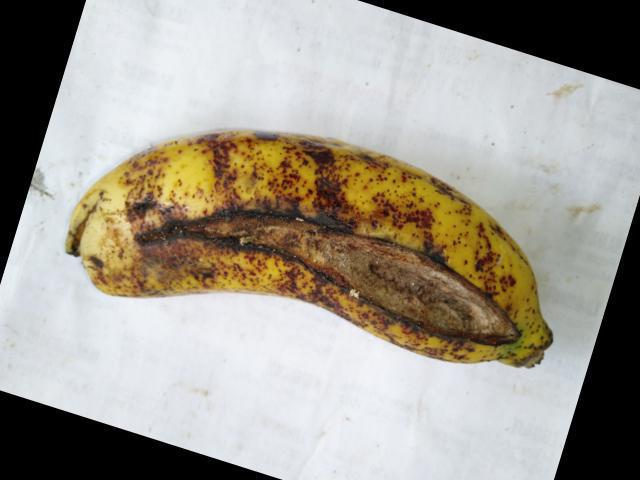rotten: (99, 157, 527, 359)
